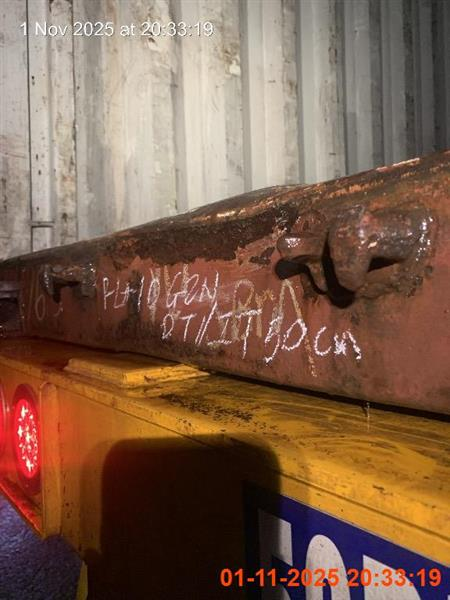dent: (1, 149, 449, 419), (0, 333, 448, 598)
